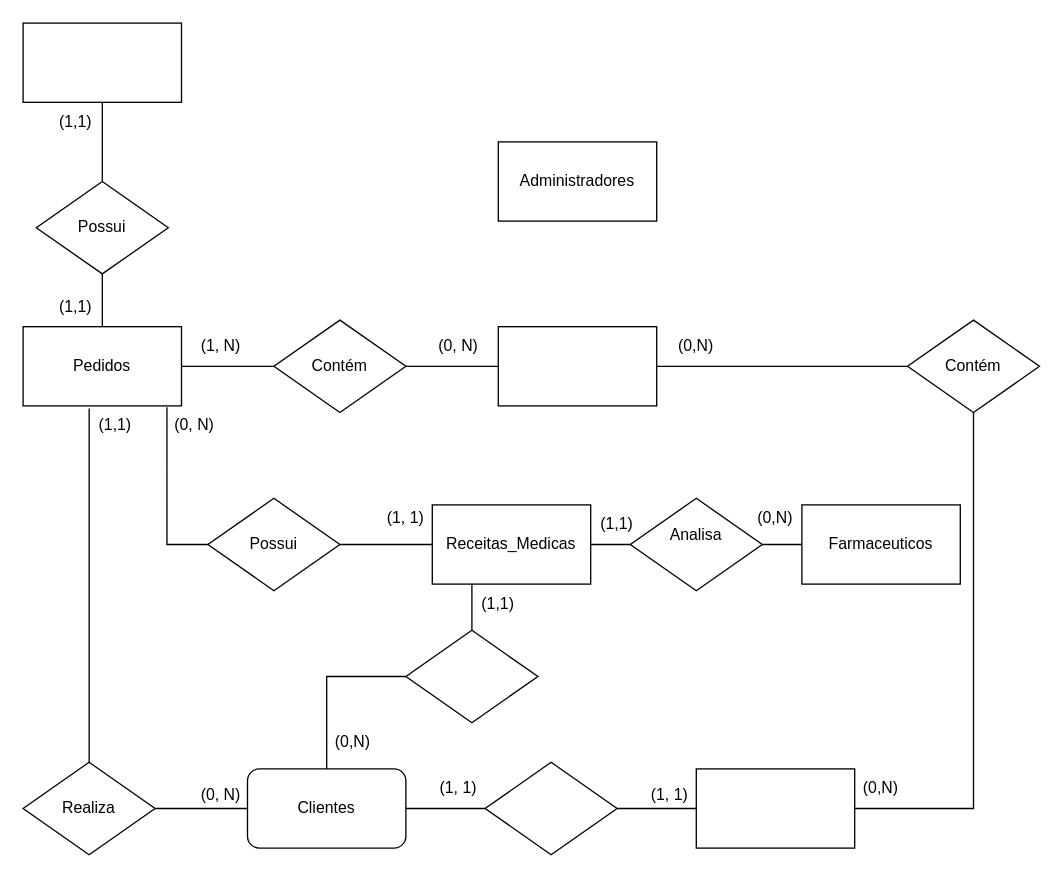
The diagram is 1063 pixels wide and 878 high, and some of its shapes have lost their labels. Here are the shapes that lost their labels. From the top down, the centre of each, then its label:
At point 102,62: "Pagamentos".
At point 577,365: "Produtos".
At point 471,676: "Envia".
At point 550,808: "Mantém".
At point 775,808: "Carrinho".
